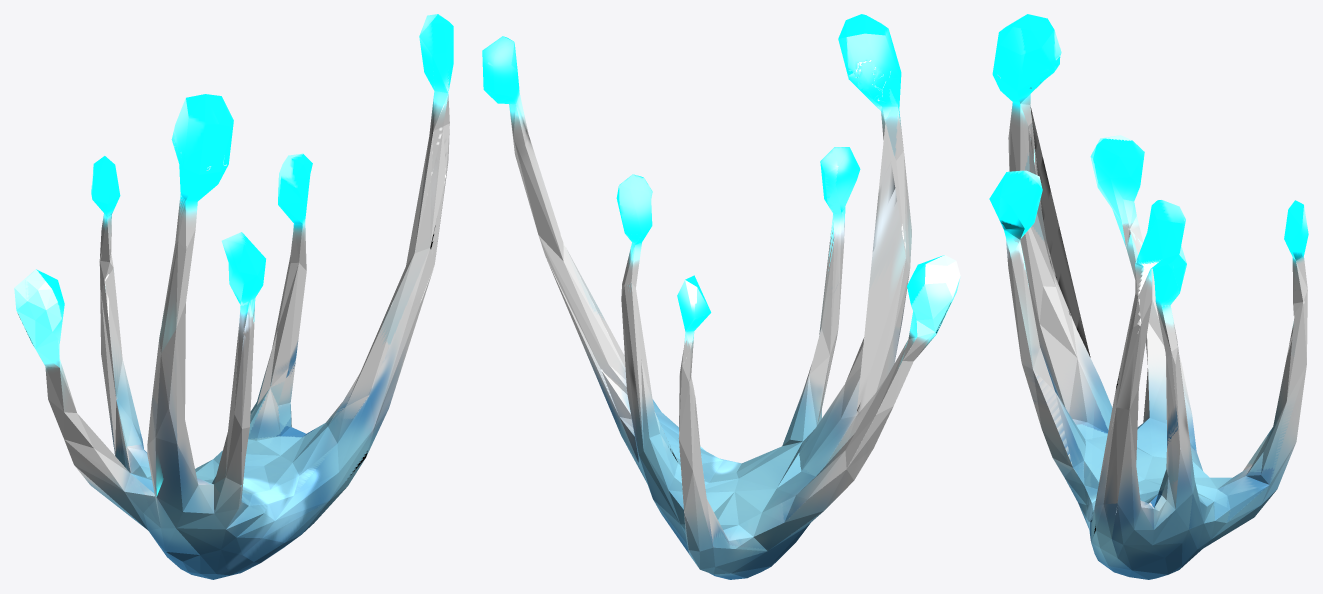
File: MultiChampis1.fbx
The picture shows the model from 3 angles, left to right: view 1: azimuth 30°, elevation 25°; view 2: azimuth 150°, elevation 25°; view 3: azimuth 270°, elevation 25°; orthographic projection. The views are drawn at different scales.
Visible parts, largest first — view 1: MultiChampignons1; view 2: MultiChampignons1; view 3: MultiChampignons1.
Boxes of the visible parts, x1,y1,x2,y2 form: MultiChampignons1: (14, 14, 453, 579); MultiChampignons1: (482, 14, 960, 579); MultiChampignons1: (989, 14, 1308, 579).
Bounding box in the file's own units: 57.4 × 91.89 × 104.
